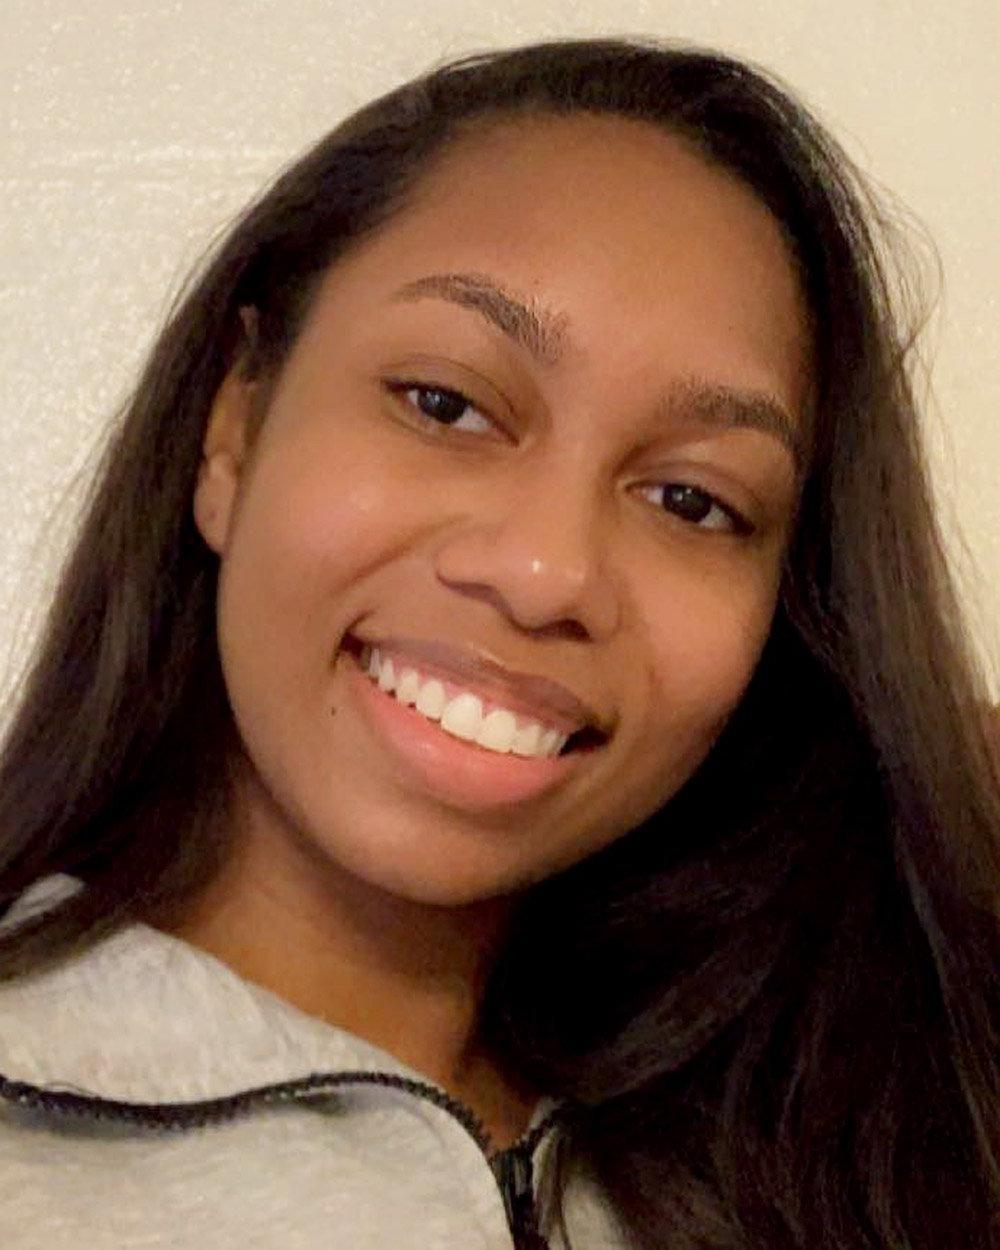Sober: (286, 156, 787, 866)
